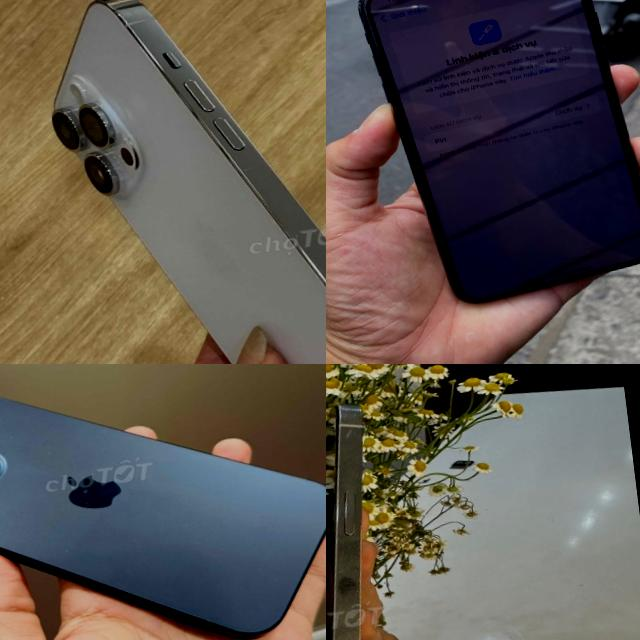gen_11: (351, 0, 640, 313)
gen_14: (32, 0, 326, 364)
gen_15: (0, 364, 326, 640), (326, 397, 446, 640)
scratch: (326, 553, 395, 640), (357, 0, 364, 20), (398, 132, 405, 140), (406, 153, 410, 158)
